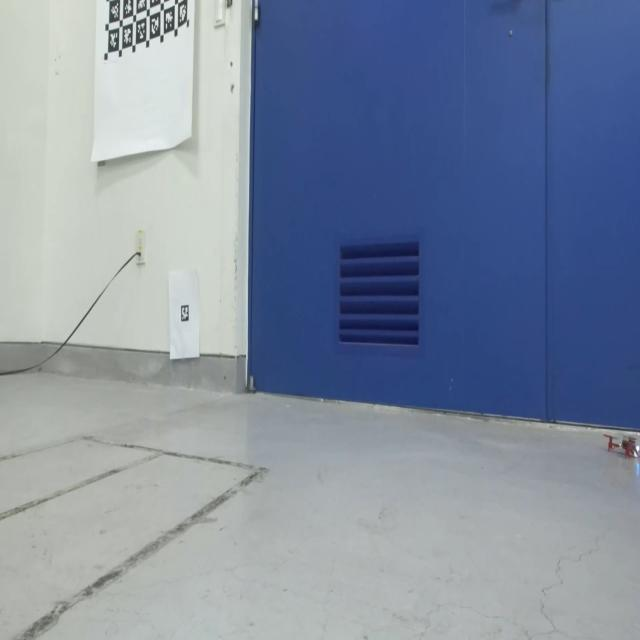crazyflie: (602, 429, 640, 463)
